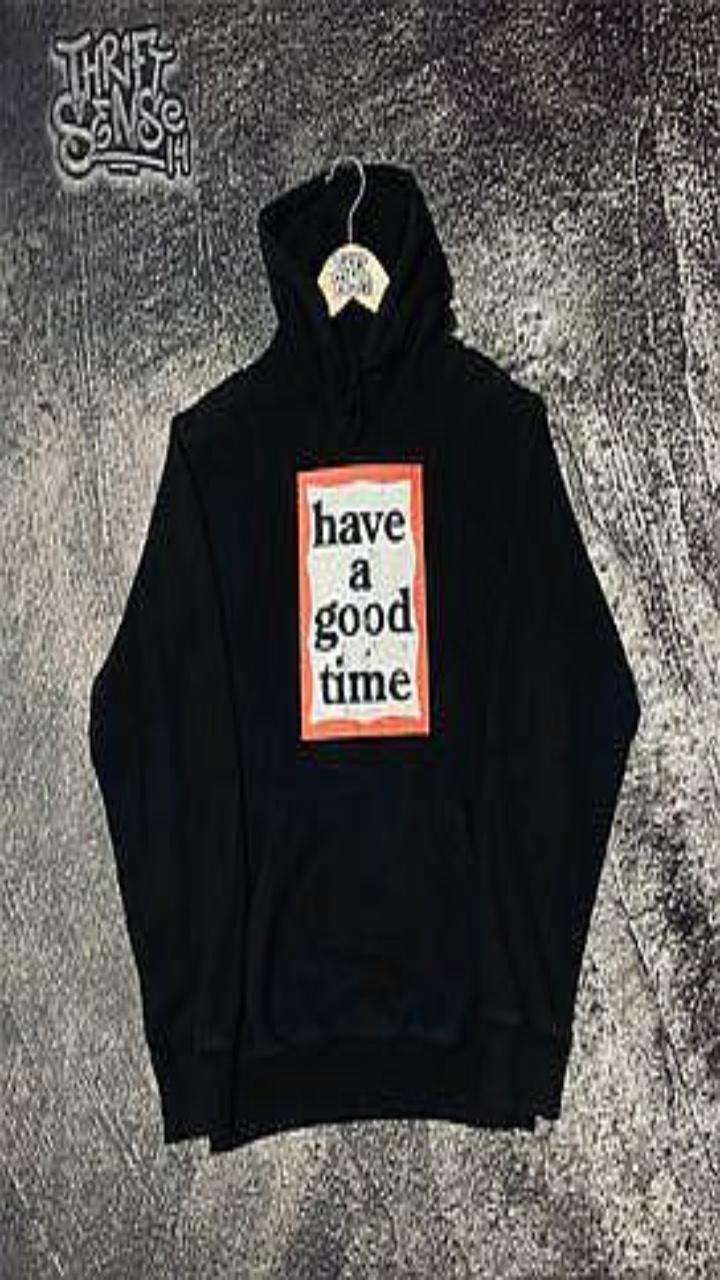Hoodie: (89, 162, 639, 1150)
